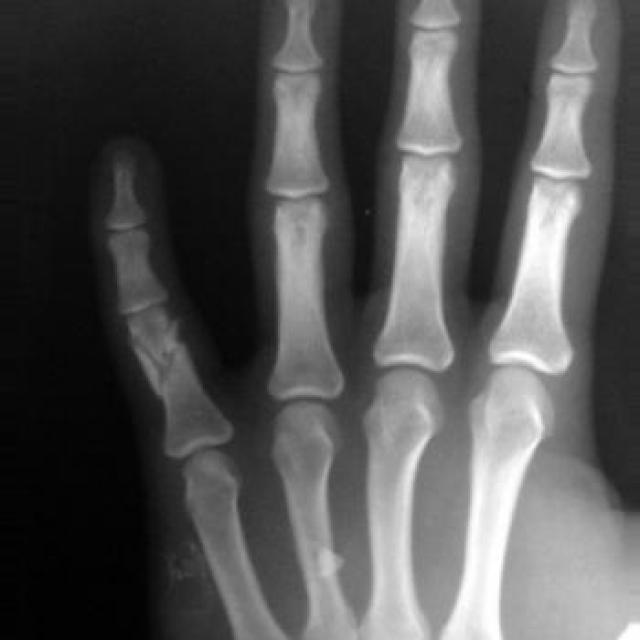Fracture: (128, 318, 198, 392)
